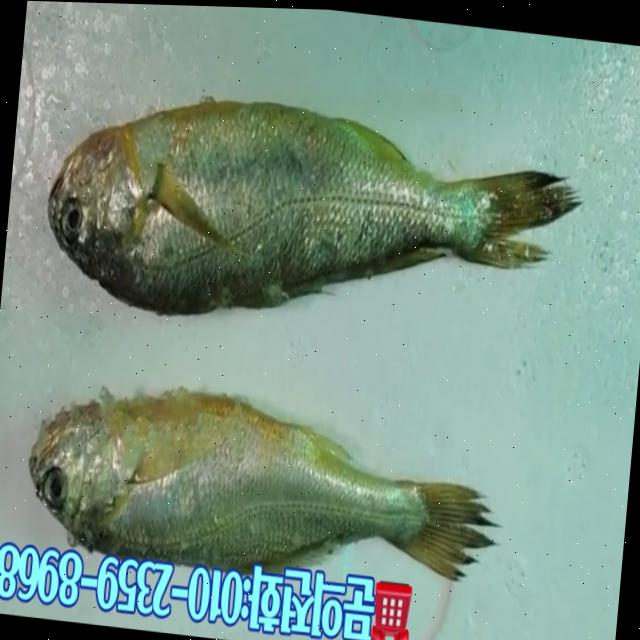Wet: (39, 76, 582, 358), (21, 368, 511, 604)
